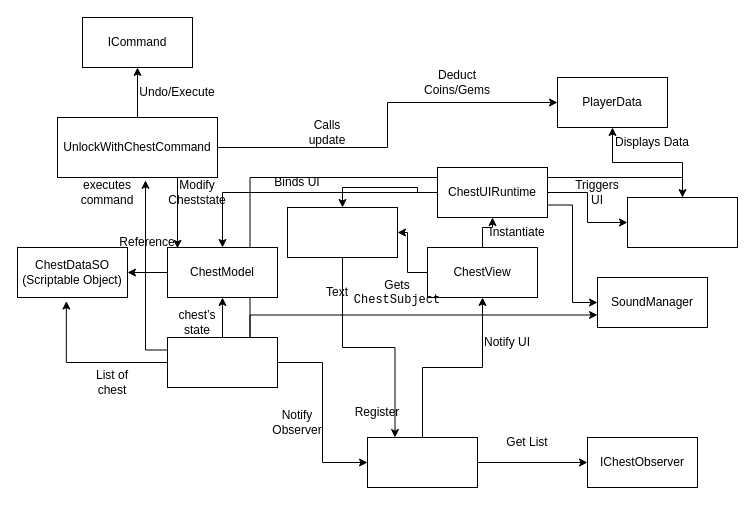
The diagram is 755 pixels wide and 505 high, and some of its shapes have lost their labels. The centre of each missing label's shape, as x and y in pixels:
ChestController: (x=222, y=362)
ChestSubject: (x=422, y=462)
PlayerUI: (x=682, y=222)
ServiceLocator: (x=342, y=232)
